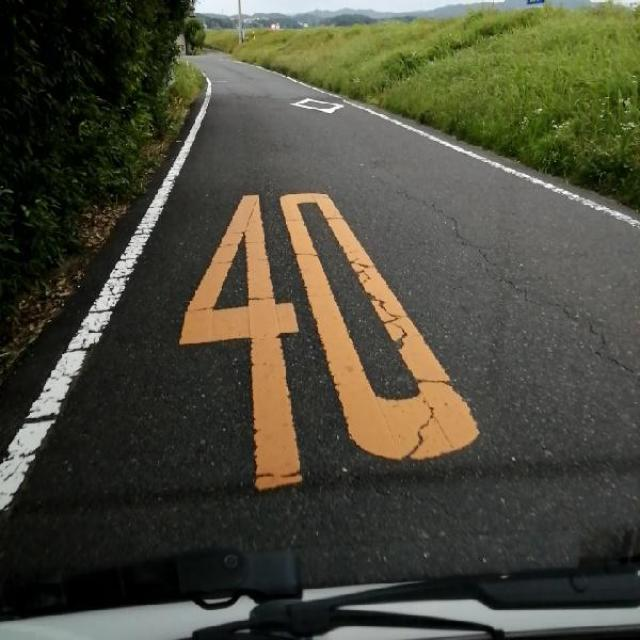Crack: (246, 200, 476, 482), (491, 244, 640, 379)
